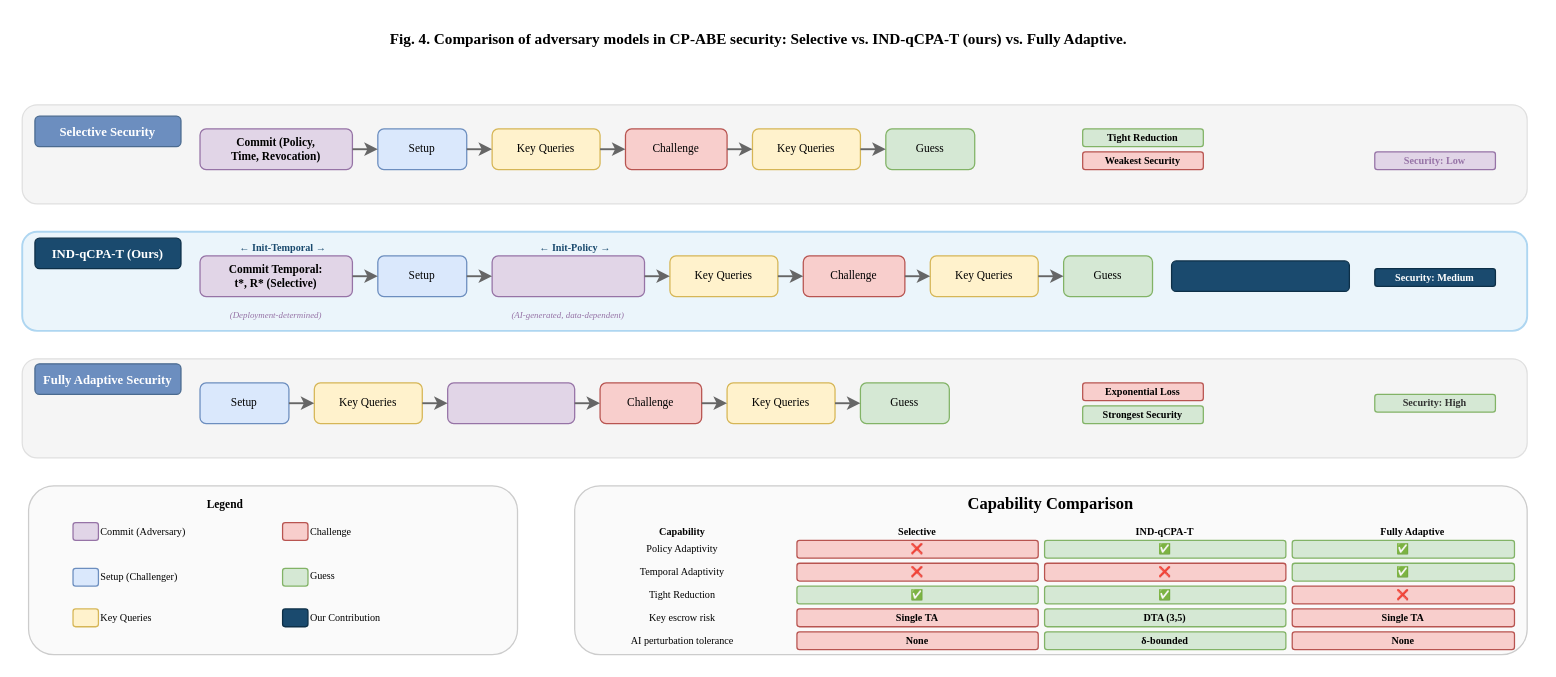
This 1556x677 diagram has some shape labels left out. The shapes that lost their labels are listed below. From the top down, each one's centre as x and y in pixels, then its label:
the point at 568,276: Commit Policy: M* (Adaptive)
the point at 1259,275: Balanced: Tight + Dynamic
the point at 510,403: Commit (All)
